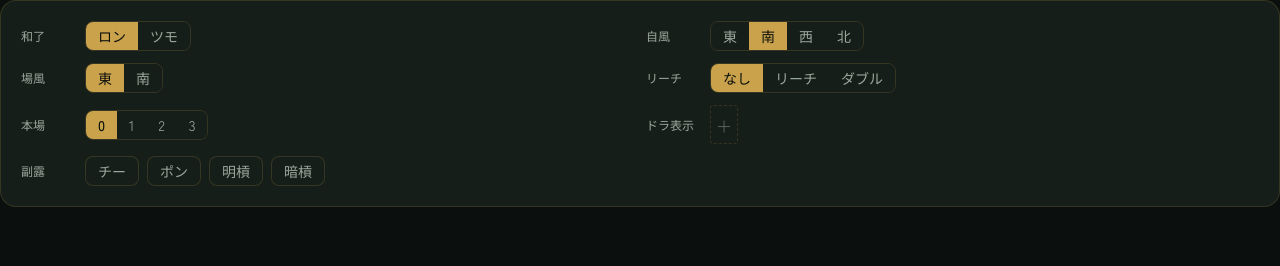
it: ContextForm › リーチ時のみ一発と裏ドラ表示の行が出る
expect the text "一発" is not shown: met
expect the text "裏ドラ表示" is not shown: met
What coordinates should you click on to do the following:
click the button "リーチ"
I would click on:
 (796, 78)
Its box is top-left (763, 64), bottom-right (829, 92).
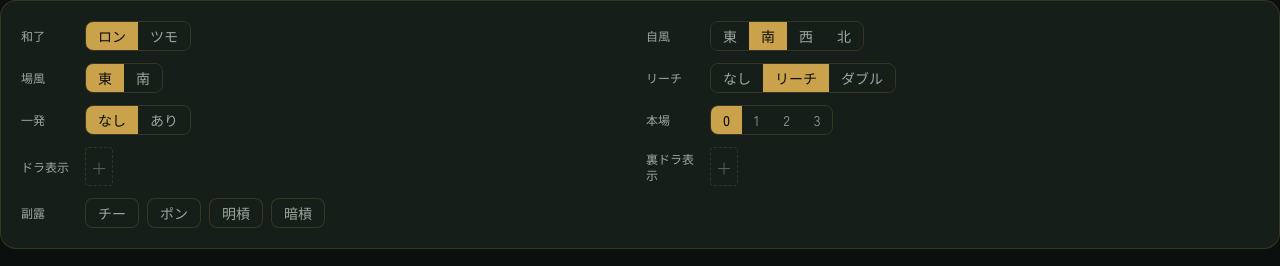
expect the text "一発" is shown: met, box top-left (21, 111), bottom-right (45, 128)
expect the text "裏ドラ表示" is shown: met, box top-left (646, 150), bottom-right (702, 182)
What coordinates should you click on to do the following:
click the button "あり"
I would click on:
 (164, 120)
Its box is top-left (138, 106), bottom-right (190, 134).
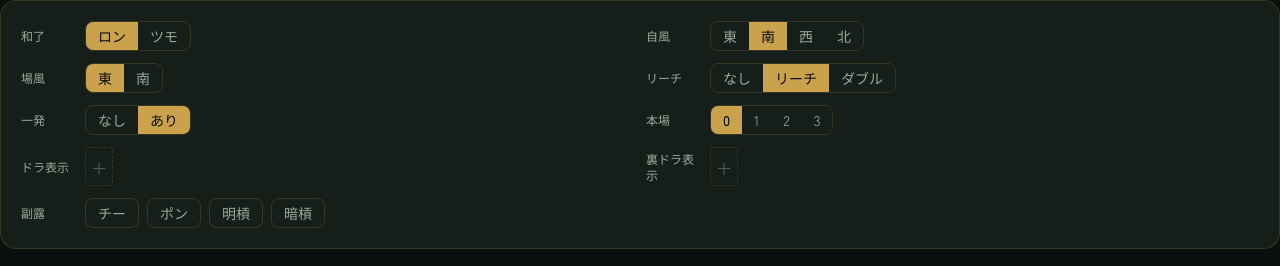
expect the button "あり" is pressed: met, box top-left (138, 106), bottom-right (190, 134)
What coordinates should you click on to do the following:
click the 1st button "なし"
I would click on:
 (737, 78)
Its box is top-left (711, 64), bottom-right (763, 92).
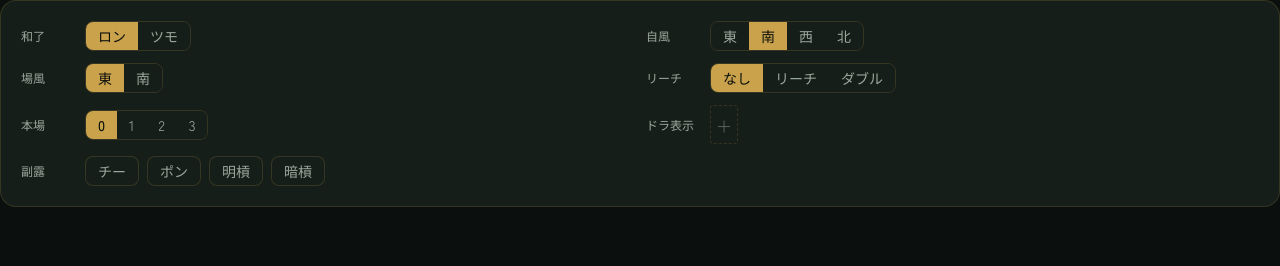
expect the text "一発" is gone: met
expect the text "裏ドラ表示" is gone: met
